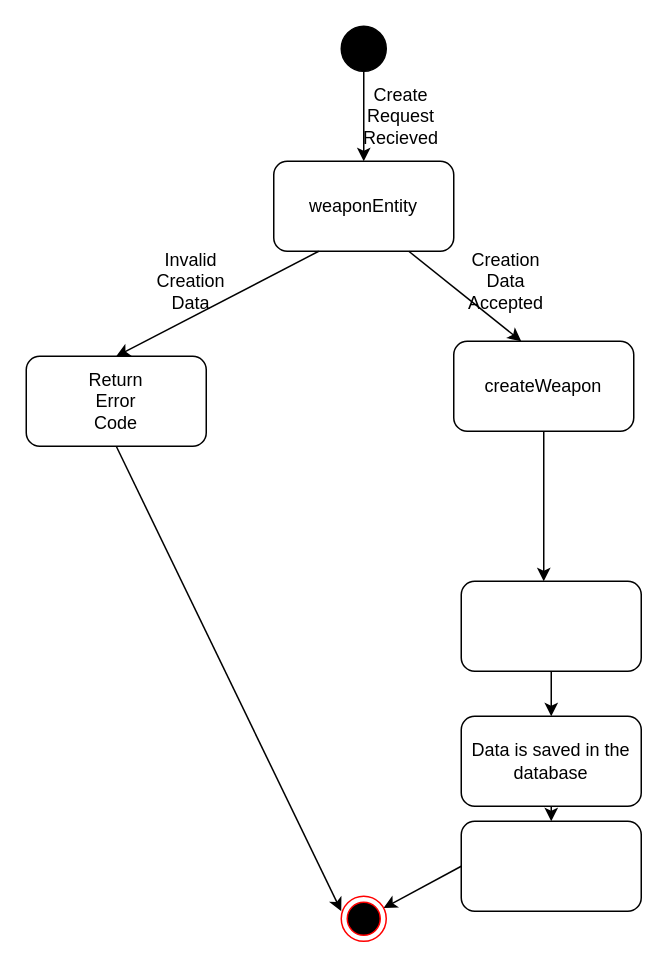
Some shapes in this 668 by 968 pixel diagram are drawn without their labels. The box of each missing label's shape, as (x1, y1, x2, y2) in pixels:
Return HTTP Response Code and UUID: (460, 820, 641, 911)
Weapon Data Received from JSON Body: (460, 580, 641, 671)
